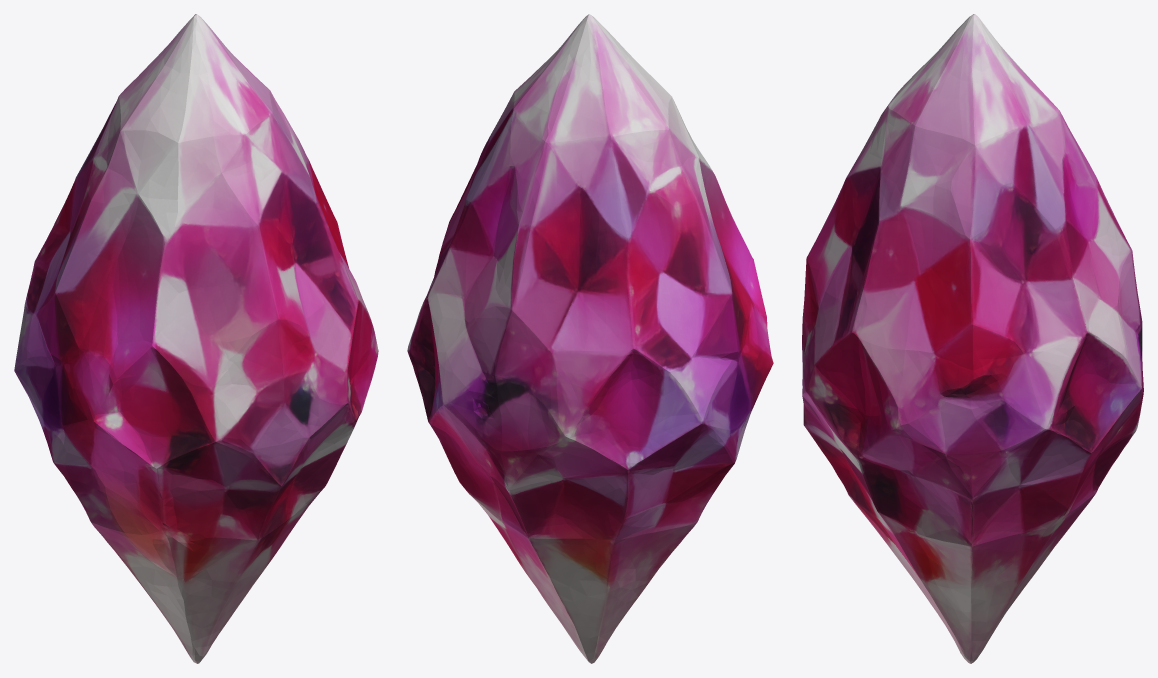
The model's file is cristal-3d.glb.
The picture shows the model from 3 angles, left to right: view 1: azimuth 30°, elevation 25°; view 2: azimuth 150°, elevation 25°; view 3: azimuth 270°, elevation 25°; orthographic projection.
Parts seen in each view (by area): view 1: world; view 2: world; view 3: world.
Boxes of the visible parts, box(x1,y1,x2,y2) form: world: box(14, 14, 378, 663); world: box(407, 14, 773, 663); world: box(802, 14, 1143, 663).
Size of the model in its own units: 0.4767 by 1 by 0.4774.
Materials: 1 (1 with a texture image).
